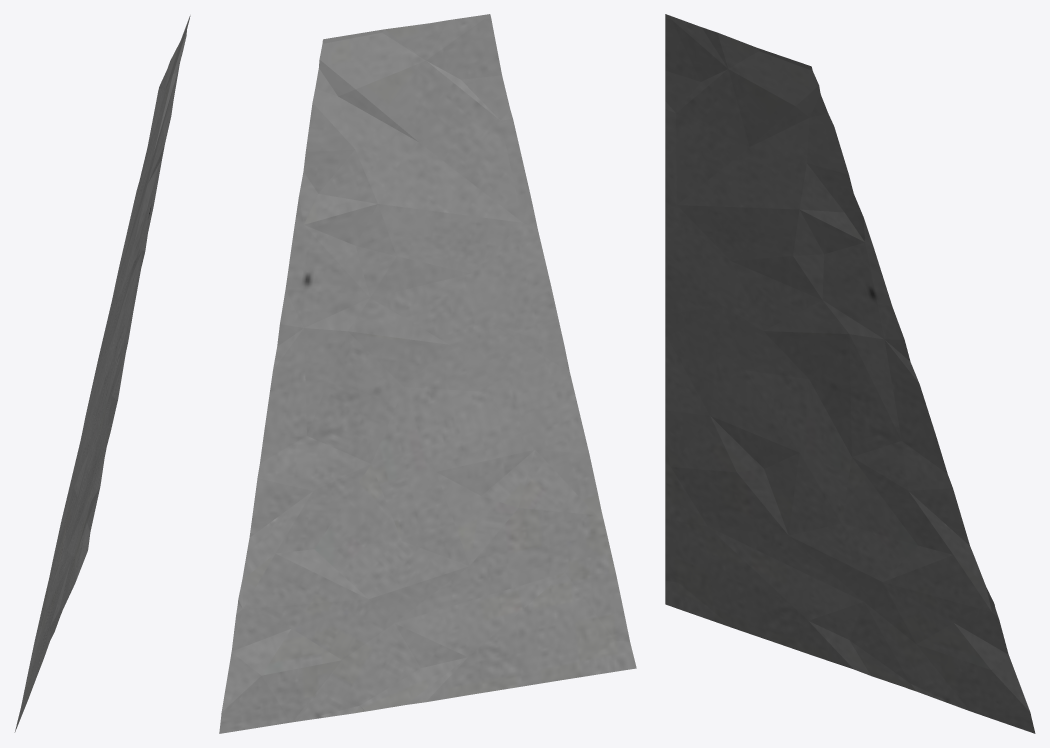
The picture shows the model from 3 angles, left to right: view 1: azimuth 30°, elevation 25°; view 2: azimuth 150°, elevation 25°; view 3: azimuth 270°, elevation 25°; orthographic projection. The views are drawn at different scales.
Size of the model in its own units: 0.3484 by 0.8373 by 0.4207.
2 materials, 2 textured.
